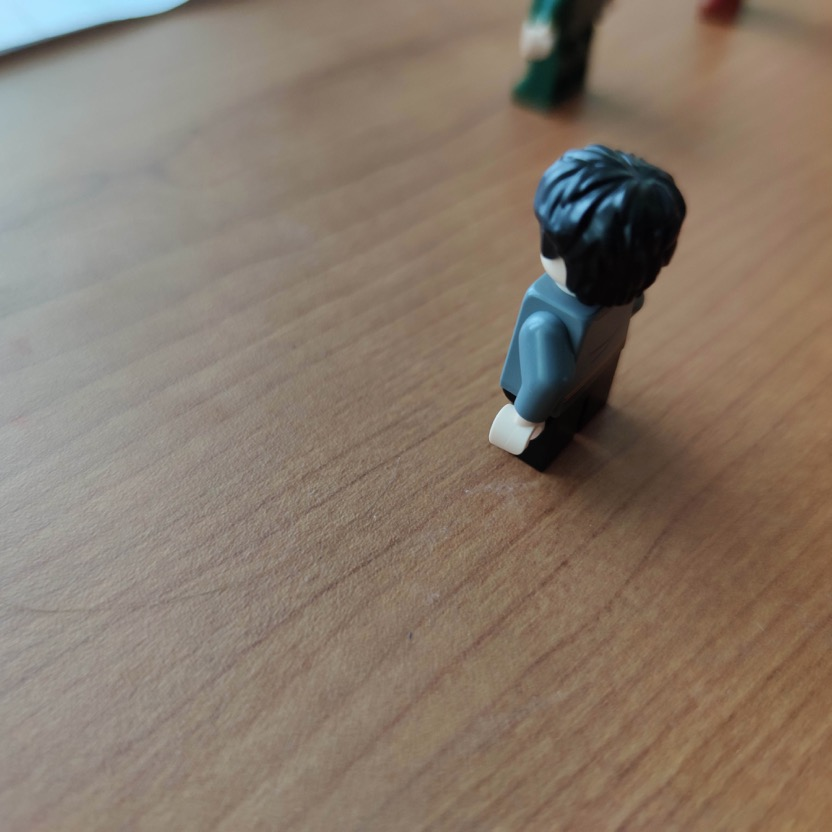lego: (487, 141, 686, 472)
